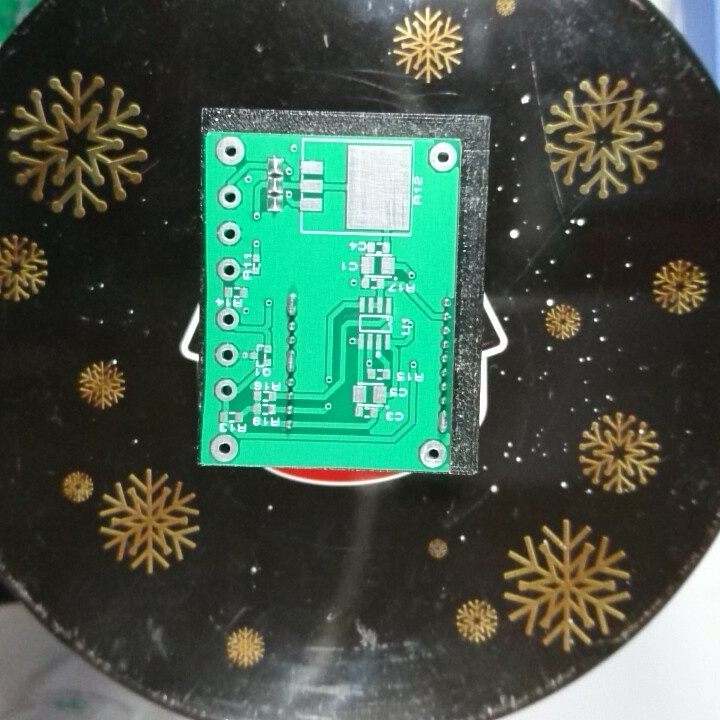F: (214, 132, 248, 168), (426, 140, 459, 175), (208, 431, 241, 463), (417, 437, 449, 469), (215, 183, 244, 212), (214, 303, 242, 332), (212, 340, 241, 368), (215, 220, 245, 247), (215, 255, 242, 284), (211, 376, 240, 403)
P: (283, 347, 299, 375), (285, 290, 300, 318), (437, 407, 450, 434)
